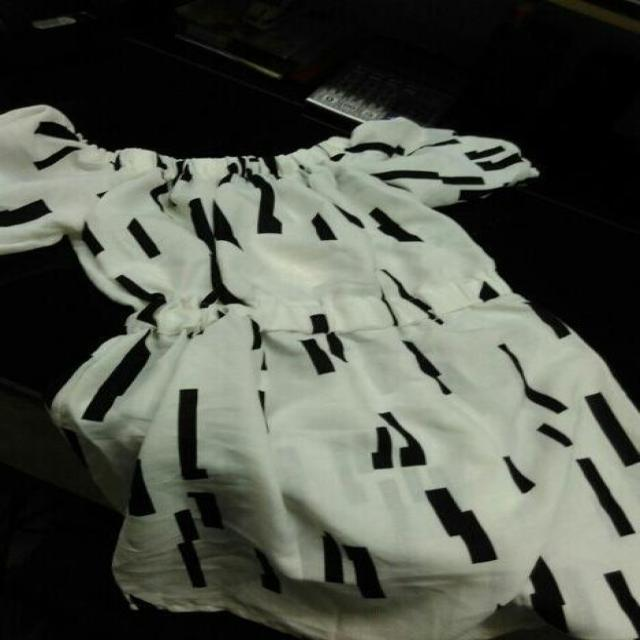long sleeve top: (0, 106, 640, 640)
